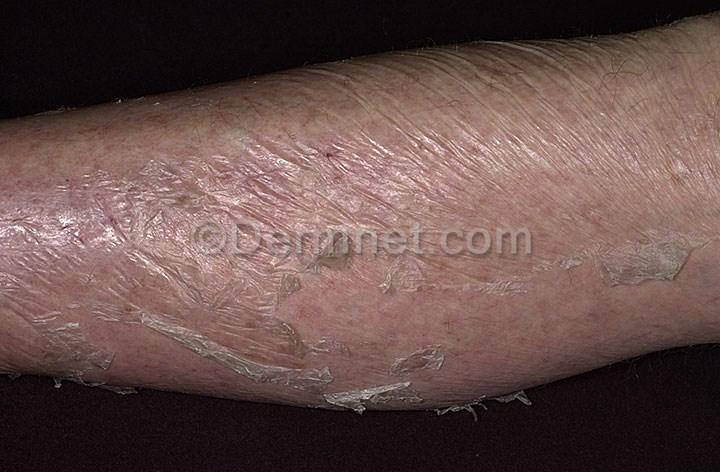Eczema: (444, 52, 591, 206), (39, 169, 163, 348), (210, 97, 356, 239), (615, 45, 720, 206)
